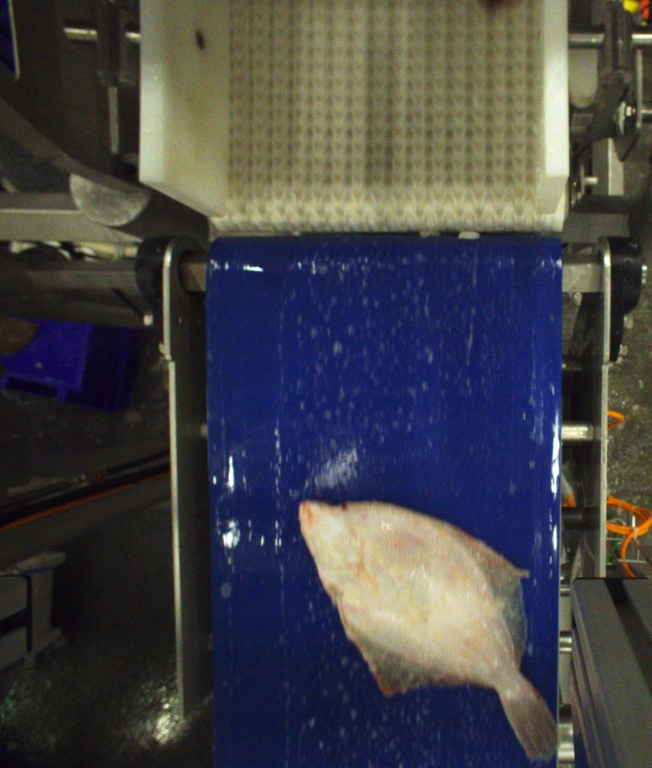PLE: (298, 495, 558, 760)
